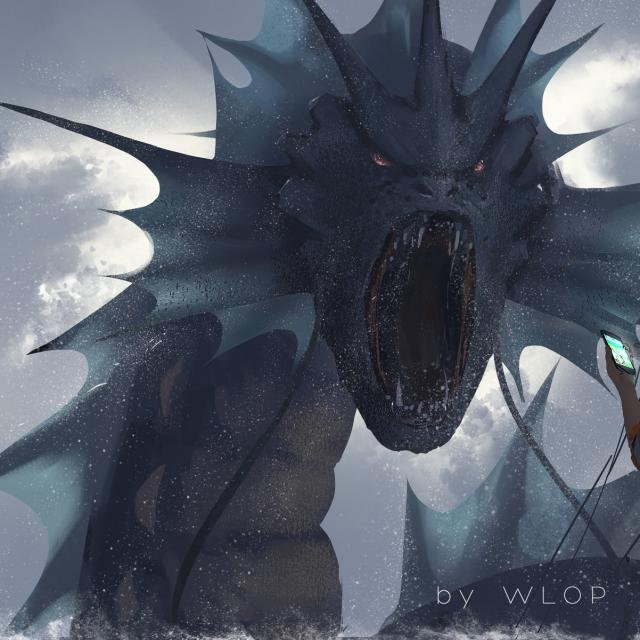Gyarados: (52, 2, 567, 477)
